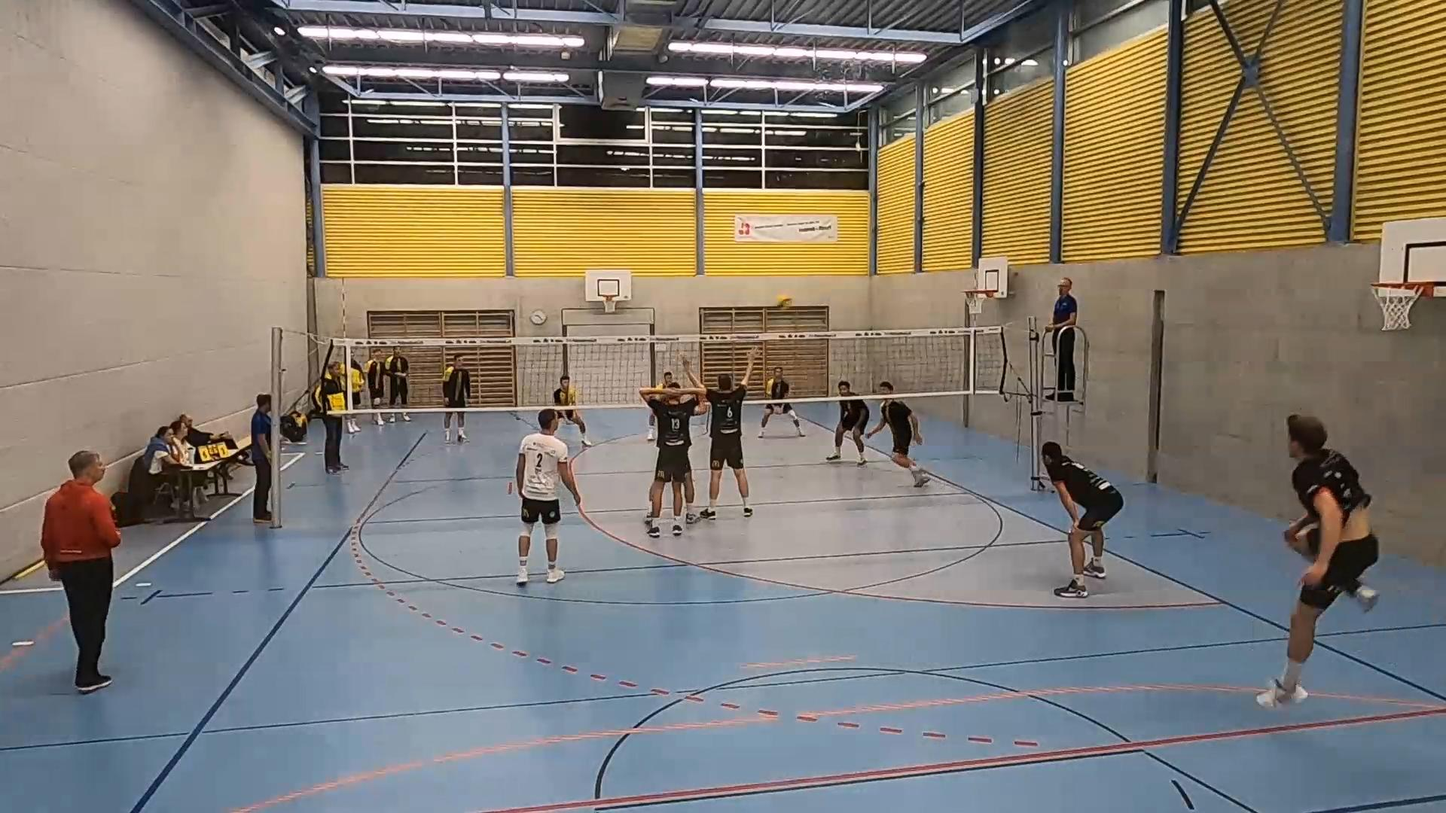battuta: (1256, 403, 1382, 716)
